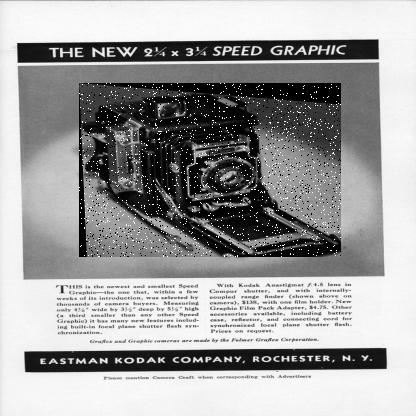Camera: (80, 84, 343, 259)
